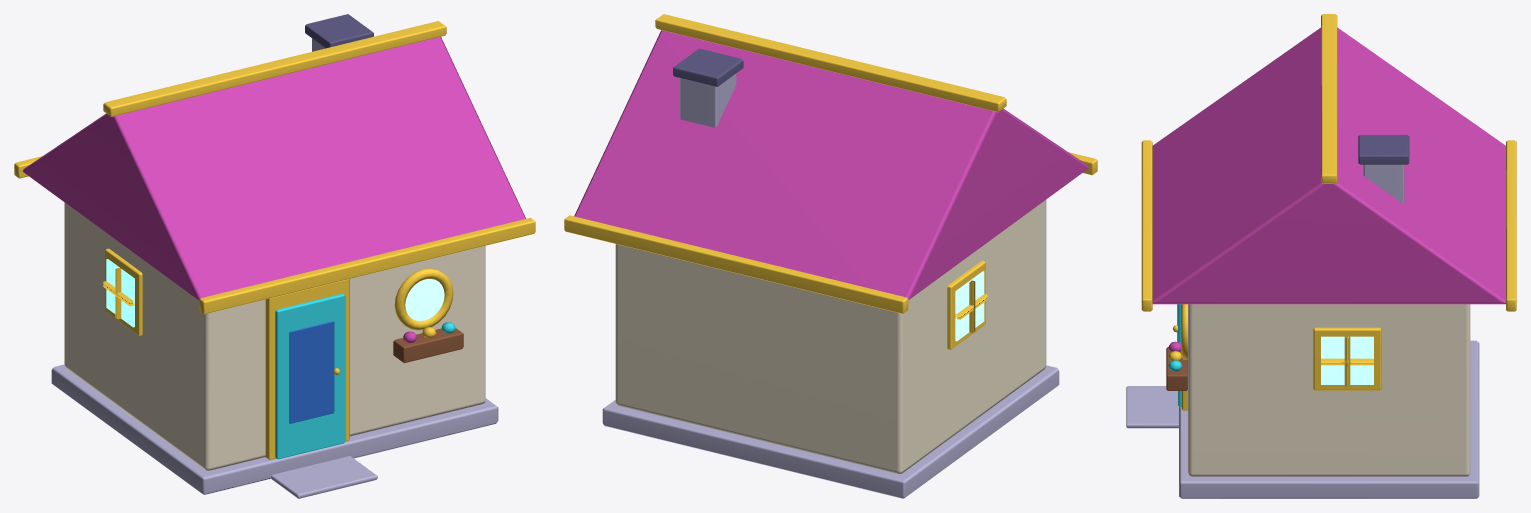
Rendered from house_player.glb.
3 renders of one model, left to right at view 1: azimuth 30°, elevation 25°; view 2: azimuth 150°, elevation 25°; view 3: azimuth 270°, elevation 25°, orthographic. The views are drawn at different scales.
Parts seen in each view (by area): view 1: House; view 2: House; view 3: House.
Boxes of the visible parts, bbox=[...] form: House: bbox=[14, 14, 535, 498]; House: bbox=[564, 14, 1097, 498]; House: bbox=[1126, 14, 1516, 498].
Bounding box in the file's own units: 4.2 × 4.06 × 4.29.
